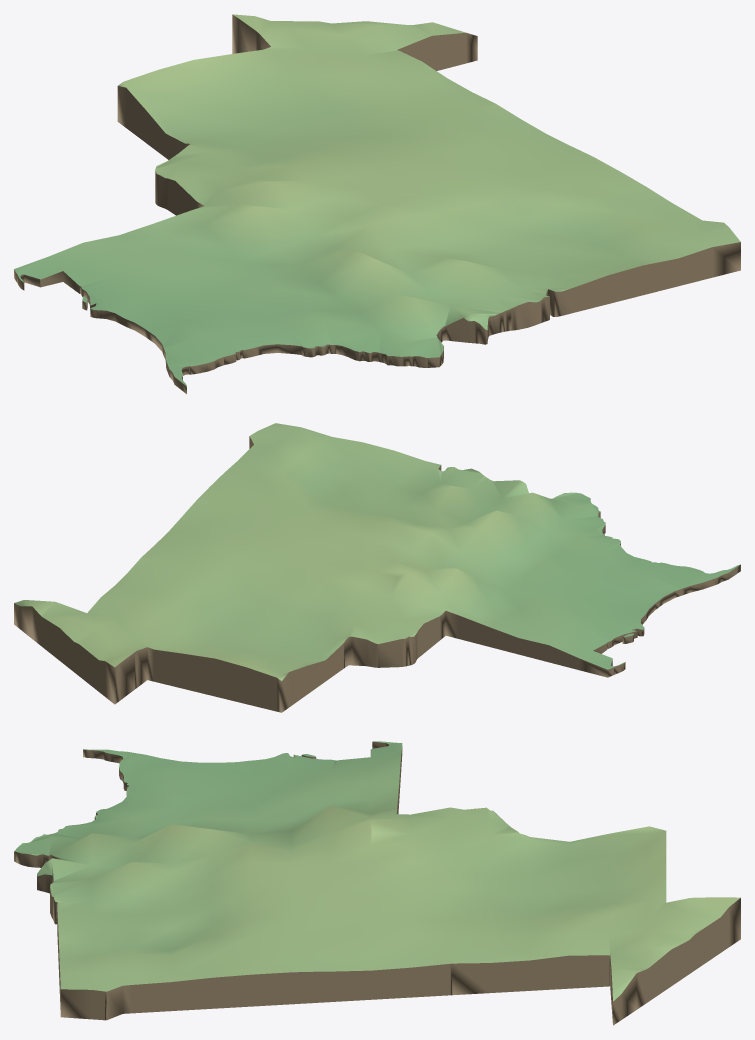
File: MRT.glb
The picture shows the model from 3 angles, top to bottom: view 1: azimuth 30°, elevation 25°; view 2: azimuth 150°, elevation 25°; view 3: azimuth 270°, elevation 25°; orthographic projection. The views are drawn at different scales.
Parts seen in each view (by area): view 1: MRT; view 2: MRT; view 3: MRT.
Part boxes in pixels (box(x1,y1,x2,y2)): MRT: box(14, 14, 740, 393); MRT: box(14, 423, 740, 712); MRT: box(14, 741, 740, 1025).
Bounding box in the file's own units: 1.39 × 0.1135 × 1.55.
